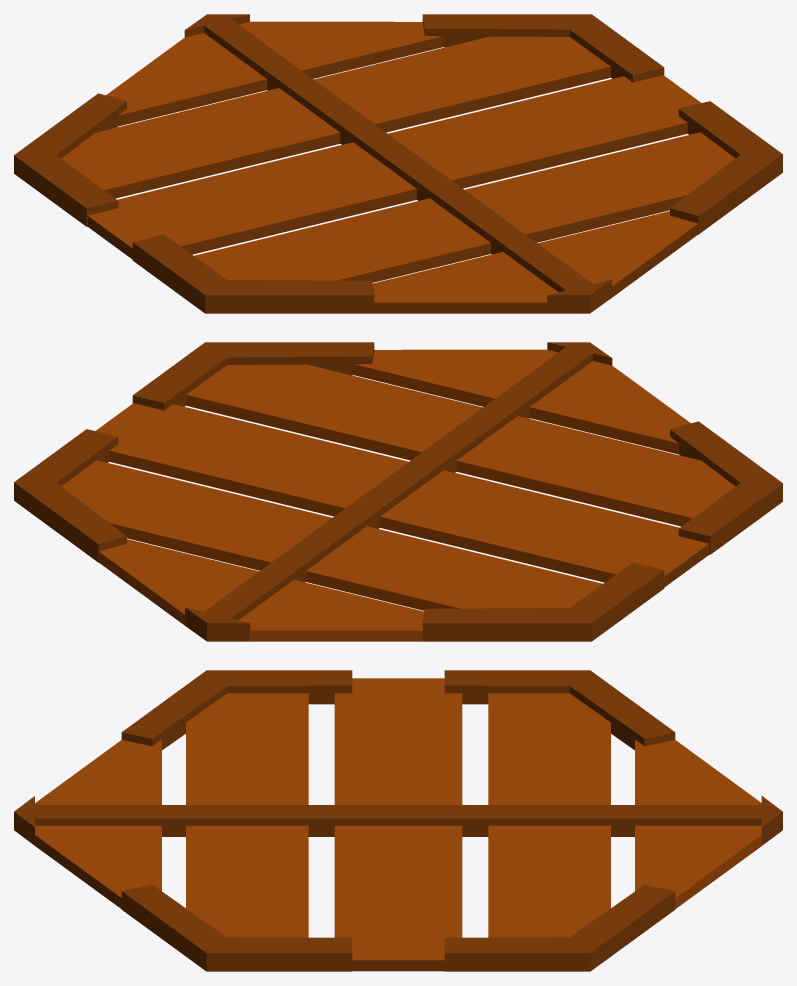
The model's file is Bridge.fbx.
The picture shows the model from 3 angles, top to bottom: view 1: azimuth 30°, elevation 25°; view 2: azimuth 150°, elevation 25°; view 3: azimuth 270°, elevation 25°; orthographic projection.
Parts seen in each view (by area): view 1: Bridge; view 2: Bridge; view 3: Bridge.
Boxes of the visible parts, x1,y1,x2,y2 form: Bridge: (14,14,782,313); Bridge: (14,342,782,641); Bridge: (14,670,782,971).
Bounding box in the file's own units: 173 × 5.3 × 199.
